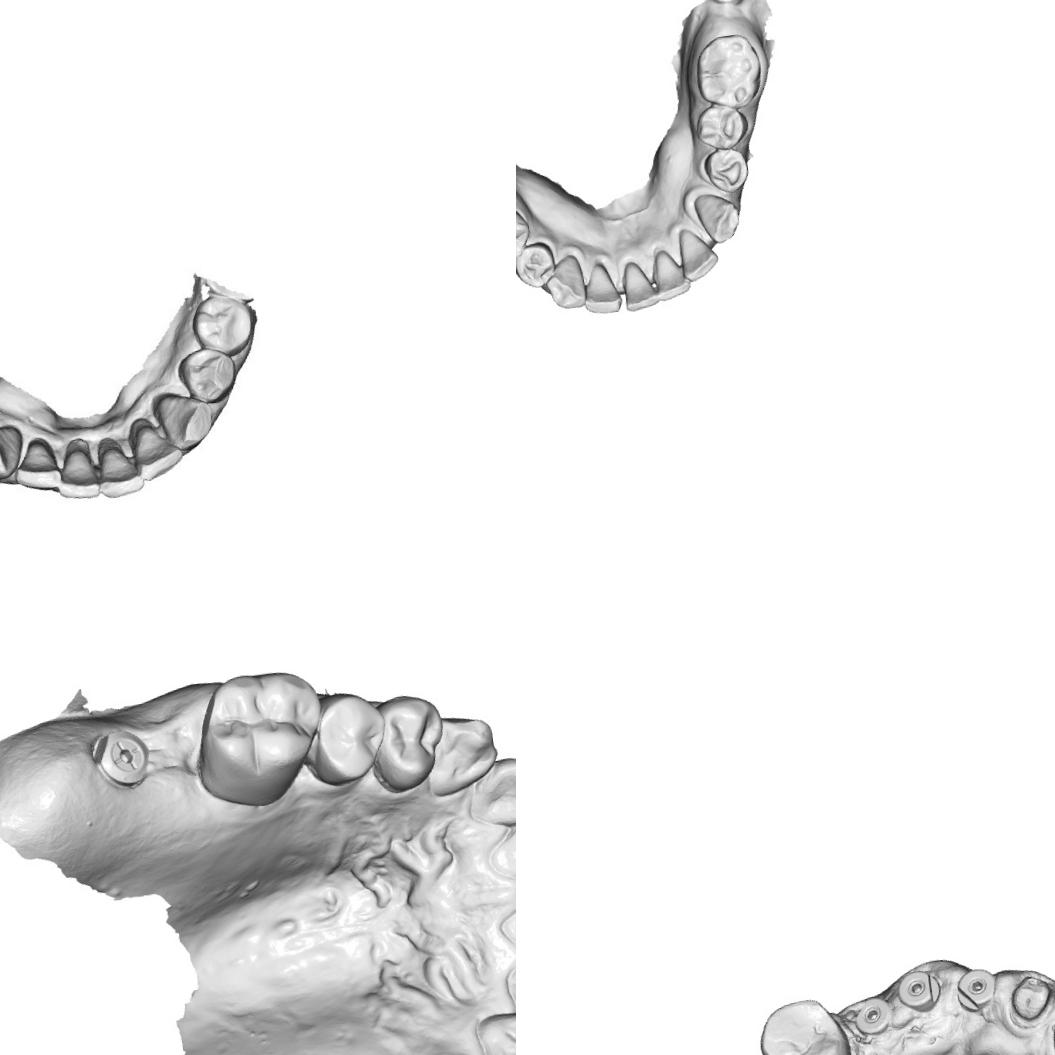canine: (421, 708, 502, 800), (150, 387, 218, 454), (690, 188, 746, 248), (541, 251, 588, 314), (473, 998, 516, 1055), (0, 421, 29, 484)
crown: (1002, 969, 1055, 1026)
implant: (890, 964, 950, 1020), (954, 963, 1001, 1010), (850, 994, 892, 1034)
implant_plus: (94, 726, 156, 794)
incisor: (127, 410, 187, 485), (466, 748, 516, 835), (90, 432, 146, 502), (9, 435, 66, 496), (50, 442, 102, 504), (483, 807, 516, 894), (647, 244, 694, 304), (675, 223, 721, 284), (579, 258, 623, 318), (615, 257, 661, 314), (493, 879, 516, 970)
molar: (184, 663, 326, 815), (690, 29, 766, 113)
premolar: (364, 689, 452, 797), (304, 685, 392, 791), (751, 991, 854, 1055), (187, 290, 259, 360), (172, 340, 238, 408), (691, 100, 751, 154), (700, 144, 754, 198), (516, 238, 560, 292), (516, 204, 534, 265)
